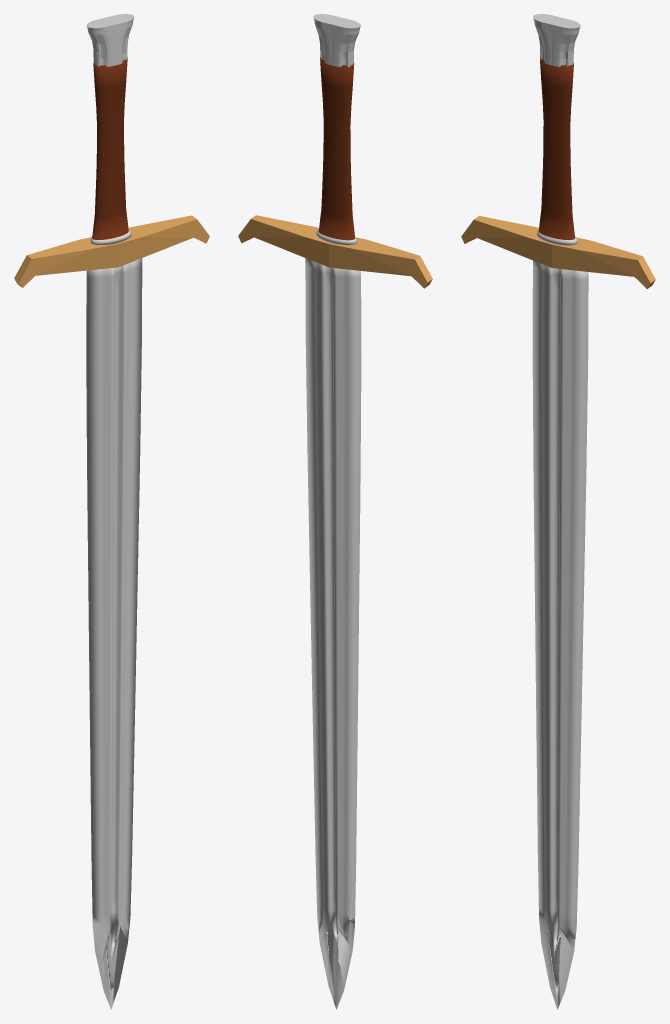
File: Экскалибур.fbx
The picture shows the model from 3 angles, left to right: view 1: azimuth 30°, elevation 25°; view 2: azimuth 150°, elevation 25°; view 3: azimuth 330°, elevation 25°; orthographic projection.
Parts seen in each view (by area): view 1: Лезвие 2, Рукоять, Крестовина, Верхняя Гарда; view 2: Лезвие 2, Рукоять, Крестовина, Верхняя Гарда; view 3: Лезвие 2, Рукоять, Крестовина, Верхняя Гарда.
Boxes of the visible parts, <box> form: Лезвие 2: <box>86,258,142,1009</box>; Рукоять: <box>92,57,128,239</box>; Крестовина: <box>14,215,209,287</box>; Верхняя Гарда: <box>86,14,134,67</box>; Лезвие 2: <box>305,258,361,1009</box>; Рукоять: <box>319,57,355,240</box>; Крестовина: <box>238,215,432,288</box>; Верхняя Гарда: <box>313,14,360,67</box>; Лезвие 2: <box>532,260,588,1009</box>; Рукоять: <box>539,57,574,239</box>; Крестовина: <box>461,216,655,288</box>; Верхняя Гарда: <box>533,14,580,66</box>.
Size of the model in its own units: 95.33 by 474 by 11.36.
